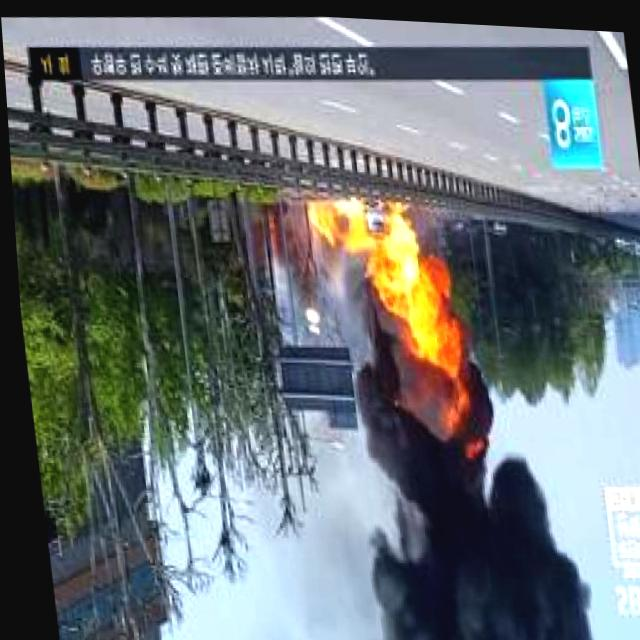helmet: (292, 186, 478, 427)
no_helmet: (344, 413, 591, 640)
